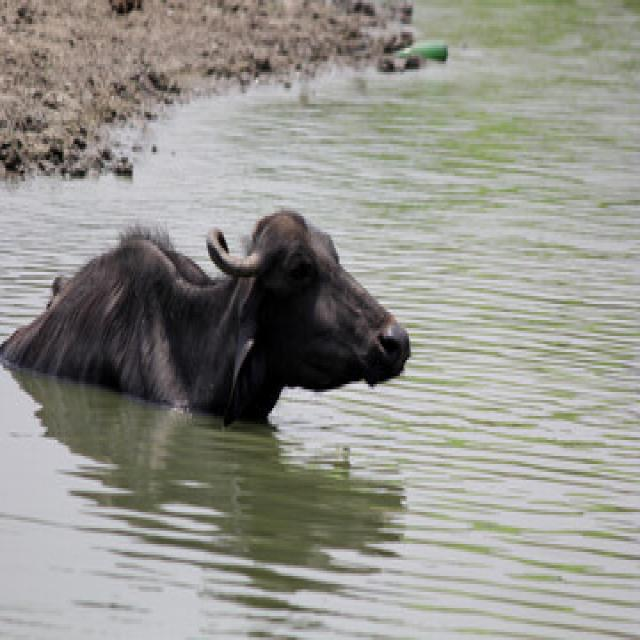Buffalo: (0, 202, 412, 429)
